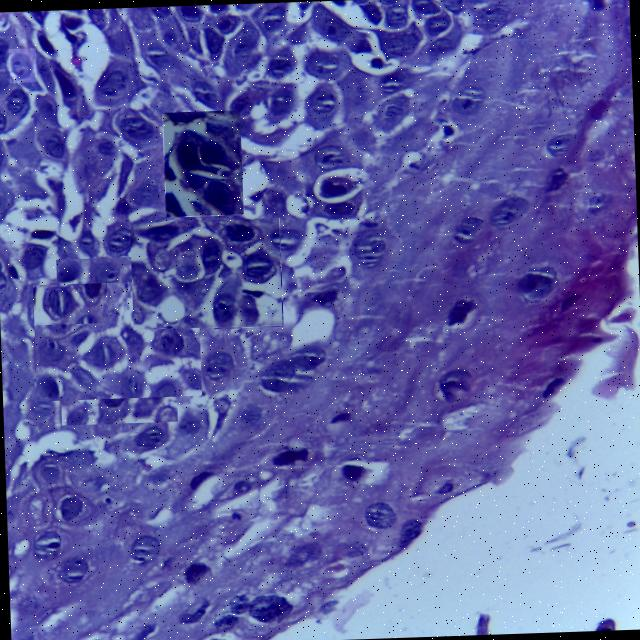Multiple Nucleol: (9, 47, 36, 81)
Nuclear Hyperchromatism: (36, 280, 199, 396), (130, 219, 281, 325), (164, 111, 242, 213)
